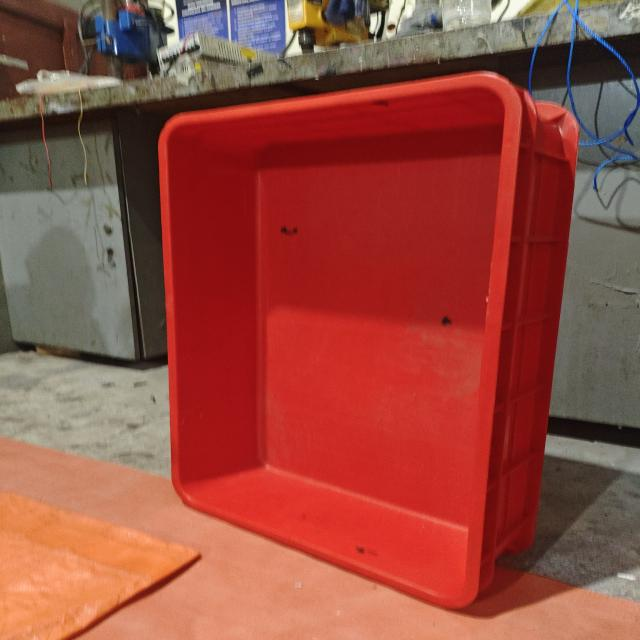red plastic box: (158, 70, 580, 609)
